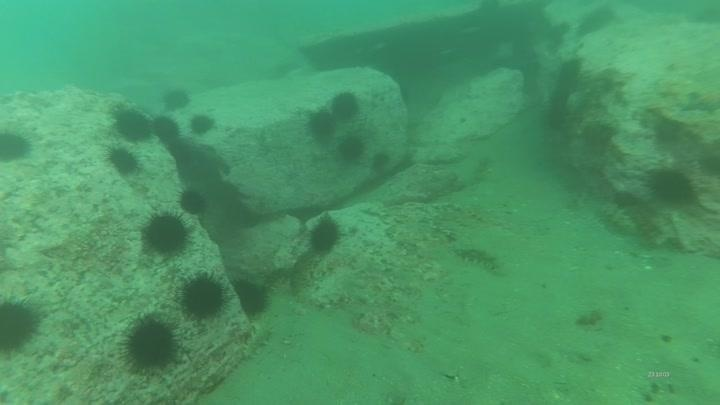echinus: (118, 312, 182, 375), (0, 294, 42, 355), (178, 271, 229, 321), (140, 210, 192, 257), (646, 165, 698, 209), (231, 276, 271, 318), (112, 106, 153, 144), (306, 214, 343, 256), (578, 118, 617, 152), (105, 144, 142, 178), (0, 127, 33, 165), (305, 107, 338, 142), (554, 56, 585, 92), (328, 90, 362, 122), (150, 114, 182, 147), (177, 186, 210, 217), (336, 133, 367, 164), (161, 86, 192, 113), (188, 112, 217, 138), (369, 149, 393, 174)
holothurian: (236, 317, 275, 364), (596, 200, 639, 238), (452, 244, 504, 274)
starfish: (679, 88, 720, 116)
